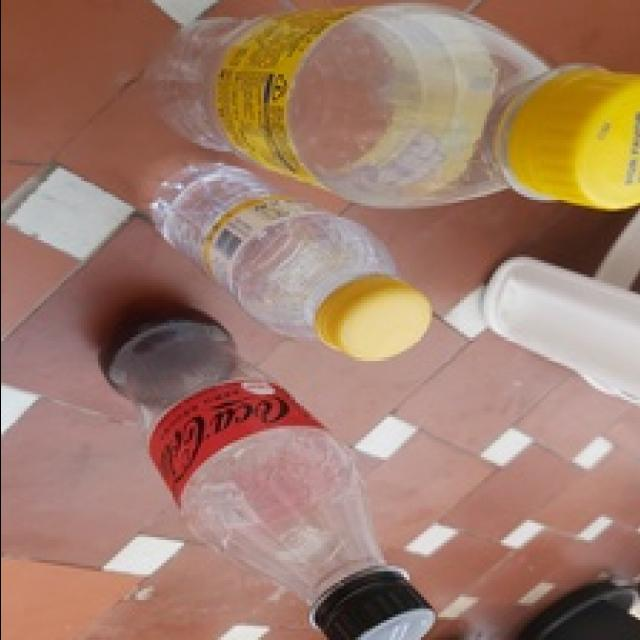寶特瓶: (81, 312, 473, 640), (133, 10, 636, 203), (122, 158, 432, 368)
